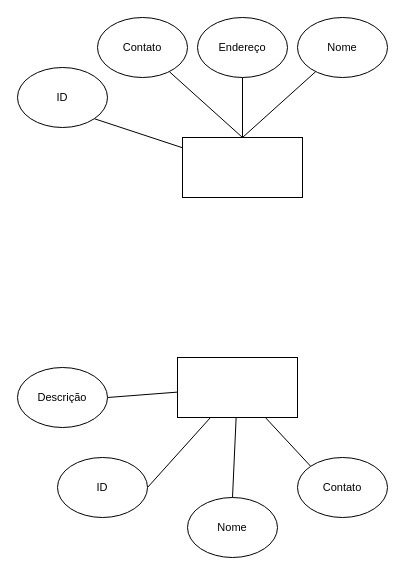
Some shapes in this 405 by 575 pixel diagram are drawn without their labels. Each missing label, with the centre of its shape:
"Ficha" belongs at (x=242, y=167).
"Usuário" belongs at (x=237, y=387).
